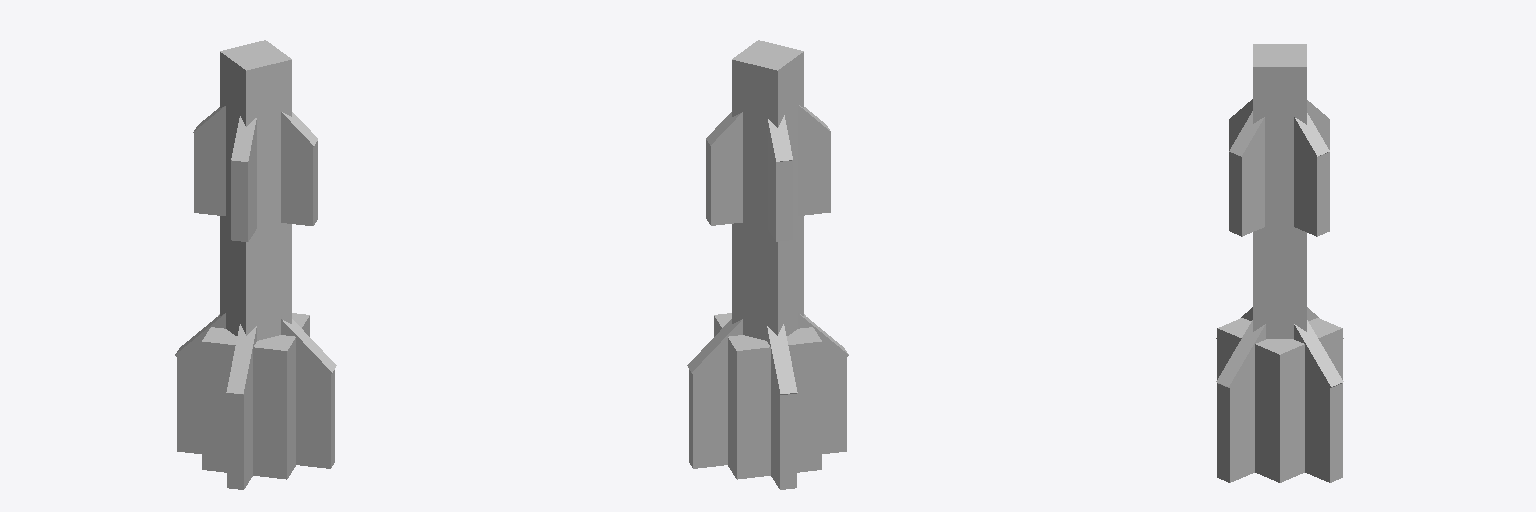
The model's file is missile_base_t1.obj.
The picture shows the model from 3 angles: view 1: azimuth 30°, elevation 25°; view 2: azimuth 150°, elevation 25°; view 3: azimuth 270°, elevation 25°; orthographic projection.
Visible parts, largest first — view 1: group_1, group_0, Component_1, Component_4, Component_2, Component_5; view 2: group_1, group_0, Component_1, Component_4, Component_2, Component_5; view 3: group_1, group_0, Component_1, Component_4, Component_2, Component_5.
Part boxes in pixels (x1,y1,x2,y2): group_1: (220,40,291,340); group_0: (202,313,309,479); Component_1: (177,355,334,489); Component_4: (194,133,317,241); Component_2: (175,313,336,411); Component_5: (193,106,317,172); group_1: (732,40,803,340); group_0: (714,313,821,479); Component_1: (689,358,846,489); Component_4: (706,133,830,241); Component_2: (687,313,848,401); Component_5: (706,105,830,171); group_1: (1253,44,1306,338); group_0: (1217,318,1342,482); Component_1: (1217,382,1342,482); Component_4: (1229,120,1329,236); Component_2: (1216,307,1343,409); Component_5: (1229,99,1329,176).
Size of the model in its own units: 90.8 by 315 by 90.8.